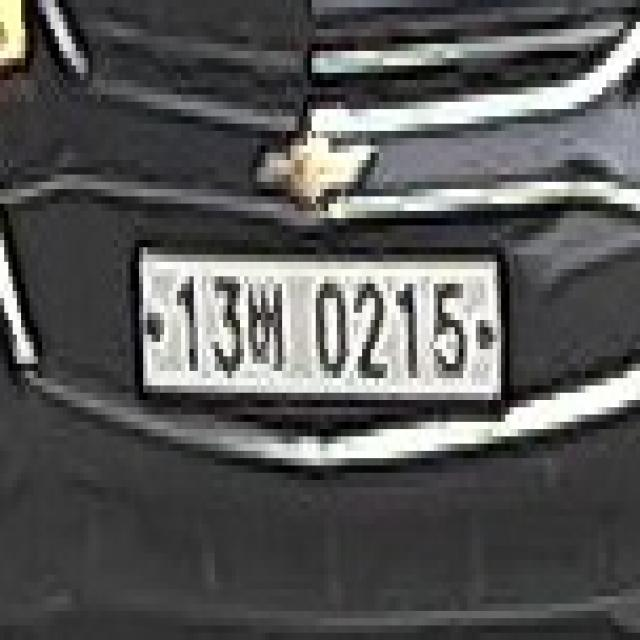0: (312, 269, 349, 400)
1: (388, 269, 430, 386), (168, 262, 206, 385)
2: (349, 276, 392, 400)
3: (207, 269, 244, 386)
5: (425, 262, 476, 400)
beo: (240, 255, 295, 392)
license_plate: (131, 233, 514, 436)
